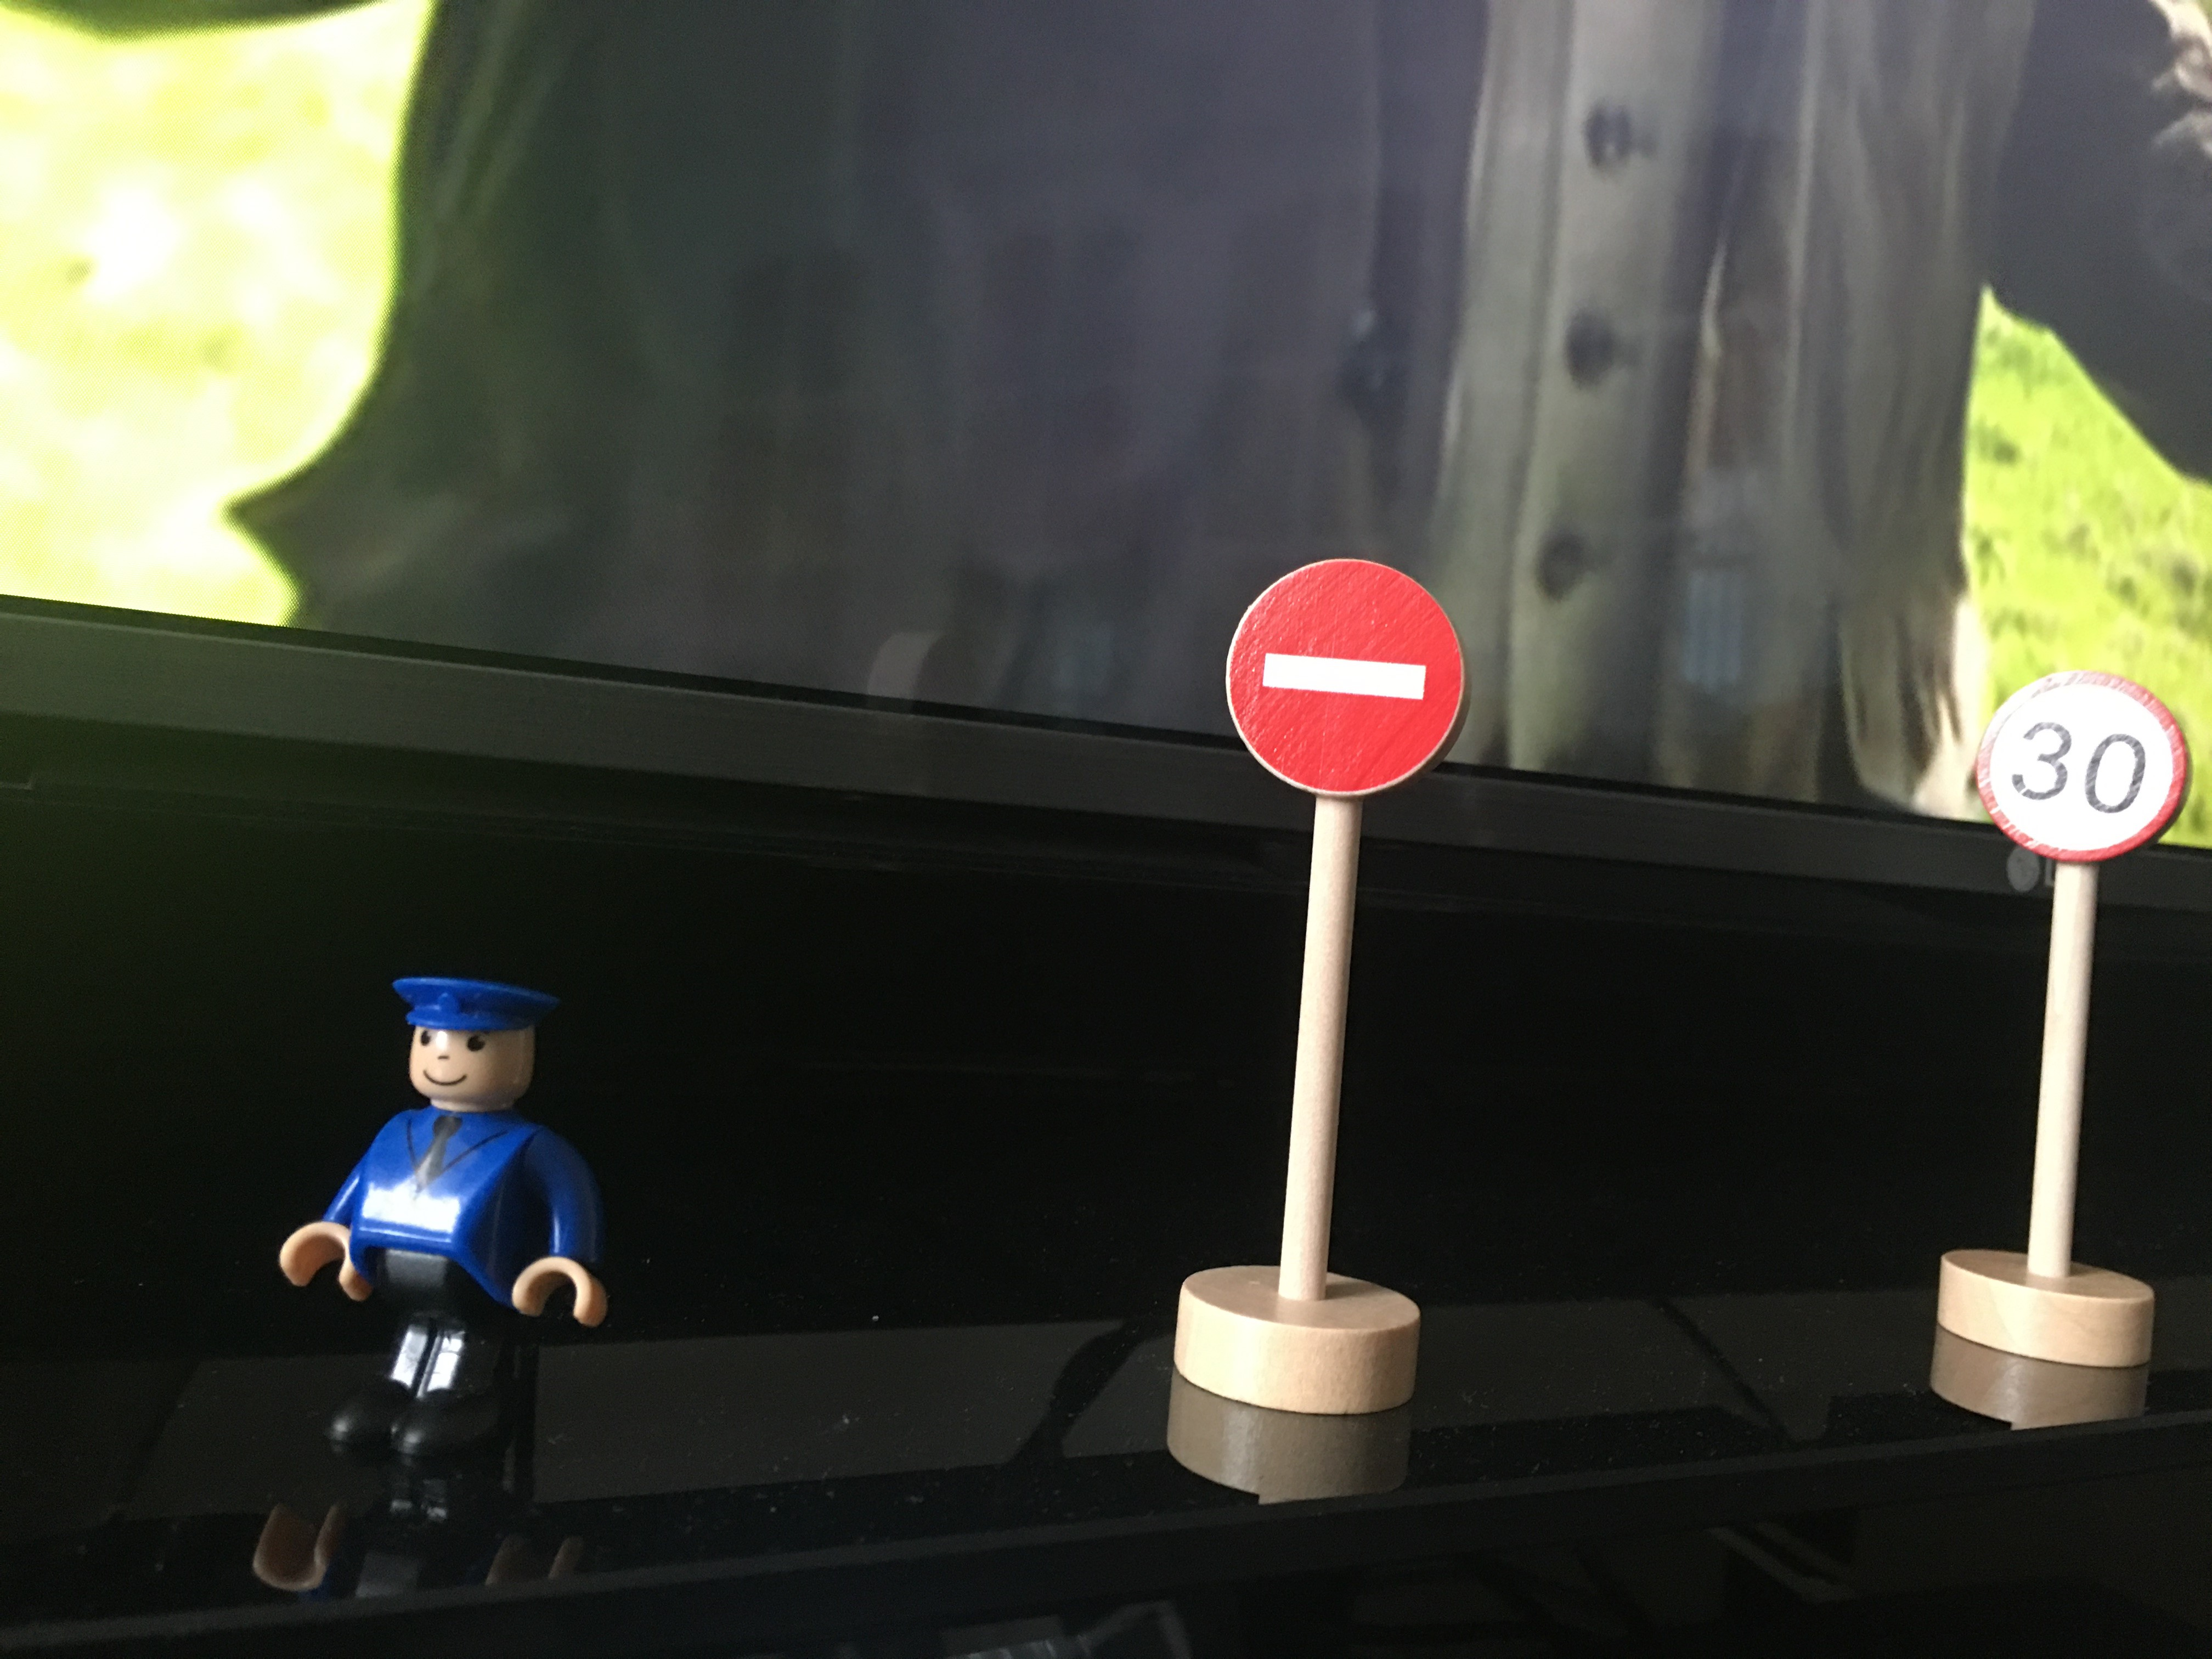Traffic_Sign_30: (1974, 665, 2188, 858)
Traffic_Sign_No_Entry: (1228, 559, 1476, 794)
person: (271, 972, 614, 1467)
